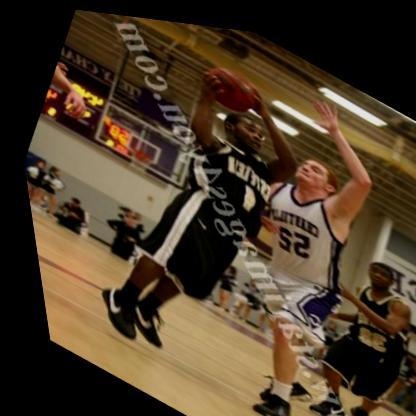basketball: (194, 52, 266, 117)
rim: (123, 142, 153, 162)
